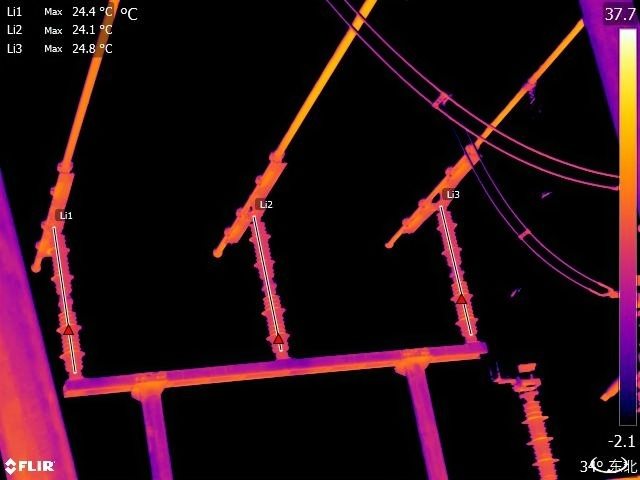clamp: (519, 71, 547, 108)
post insulator: (439, 206, 482, 340), (252, 215, 292, 354), (48, 230, 84, 367), (523, 392, 565, 480)
